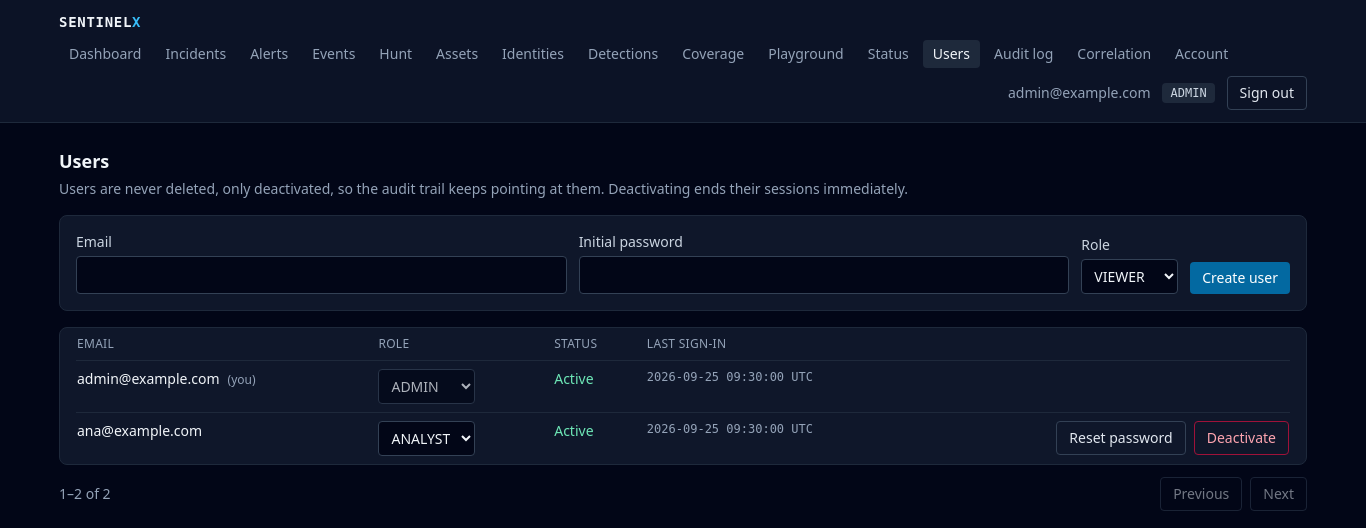
Users page › changes a role and deactivates a user
Select "VIEWER" in the dropdown named "Role of ana@example.com" at {"x": 427, "y": 438}, box 378,421 -> 475,456
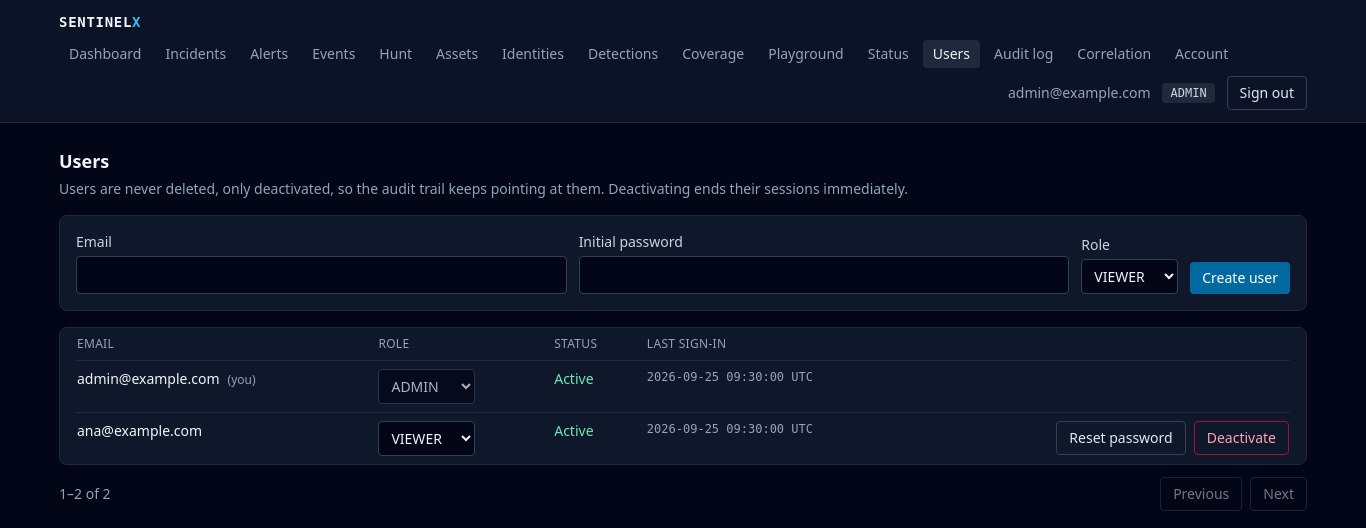
Click the button "Deactivate" at {"x": 1241, "y": 438}, box 1194,421 -> 1289,455
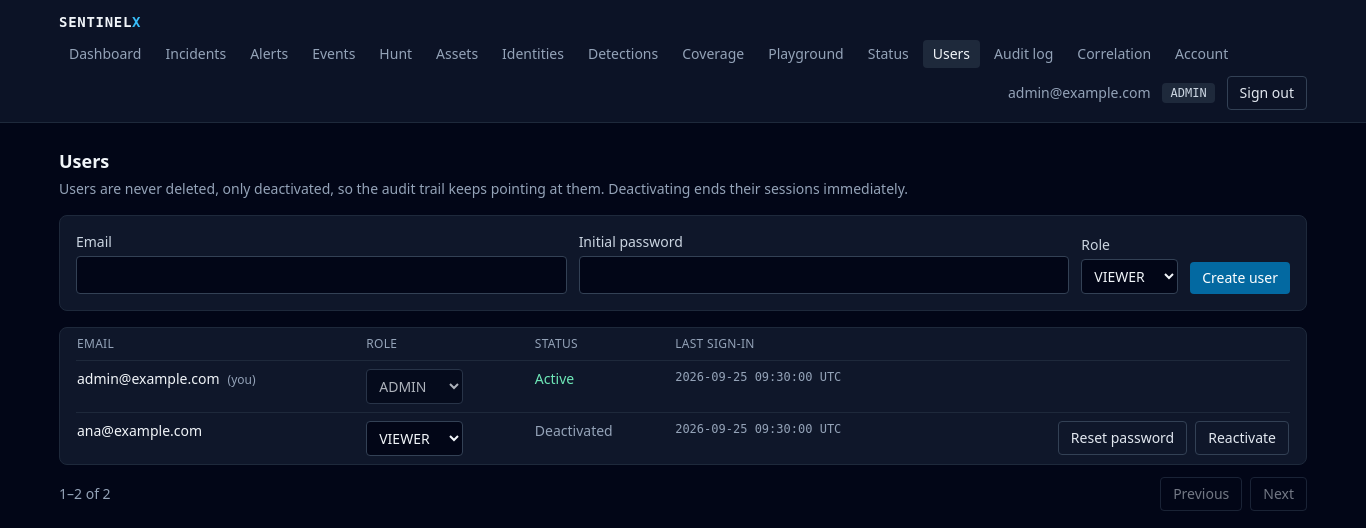
Expected: the button "Reactivate" is shown, 1195,421 -> 1289,455
